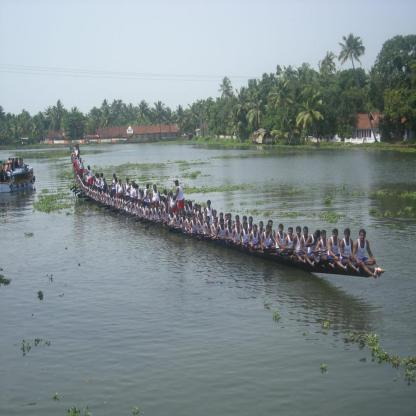face: (361, 233, 366, 240), (305, 230, 309, 237), (334, 233, 338, 240), (290, 230, 294, 237), (323, 234, 327, 240), (346, 233, 350, 239), (315, 235, 320, 239), (237, 223, 240, 229), (245, 224, 248, 230), (255, 227, 258, 233), (261, 224, 264, 230), (271, 222, 274, 228), (214, 212, 217, 217), (244, 219, 247, 224), (250, 219, 253, 224), (268, 228, 271, 233), (280, 228, 283, 233), (188, 216, 191, 220), (184, 214, 187, 218), (176, 212, 179, 216), (208, 219, 211, 223), (221, 221, 224, 225), (221, 215, 224, 219), (229, 224, 232, 228), (237, 218, 240, 222), (200, 215, 202, 220), (217, 219, 219, 224), (199, 209, 202, 212), (208, 205, 211, 208), (167, 205, 169, 209), (161, 206, 163, 210), (153, 205, 155, 209), (195, 206, 197, 210), (215, 221, 217, 225), (226, 216, 228, 220), (229, 216, 231, 220), (120, 181, 122, 184), (127, 180, 129, 183), (133, 183, 135, 186), (155, 187, 157, 190), (166, 193, 168, 196), (171, 194, 173, 197), (186, 203, 188, 206), (170, 211, 172, 214), (156, 206, 158, 209), (150, 205, 152, 208), (189, 204, 191, 207), (187, 208, 189, 211), (137, 188, 139, 190), (176, 182, 177, 186), (149, 186, 150, 189), (116, 180, 117, 182), (114, 176, 115, 178)
